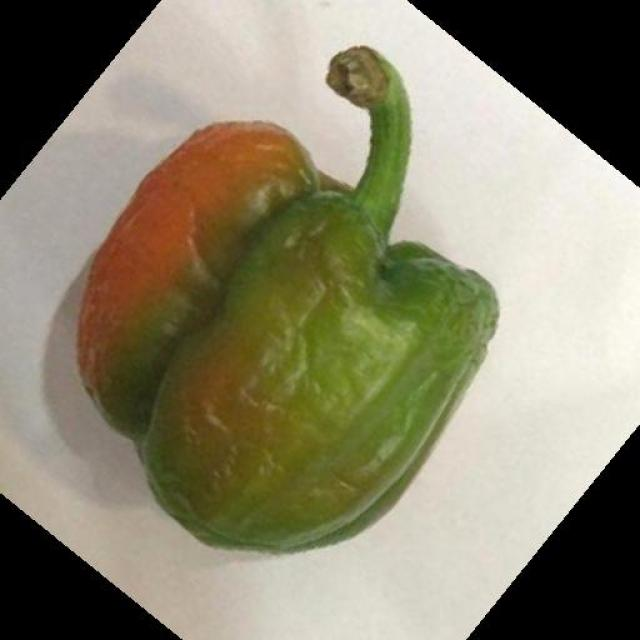Stale_Capsicum: (59, 70, 517, 556)
